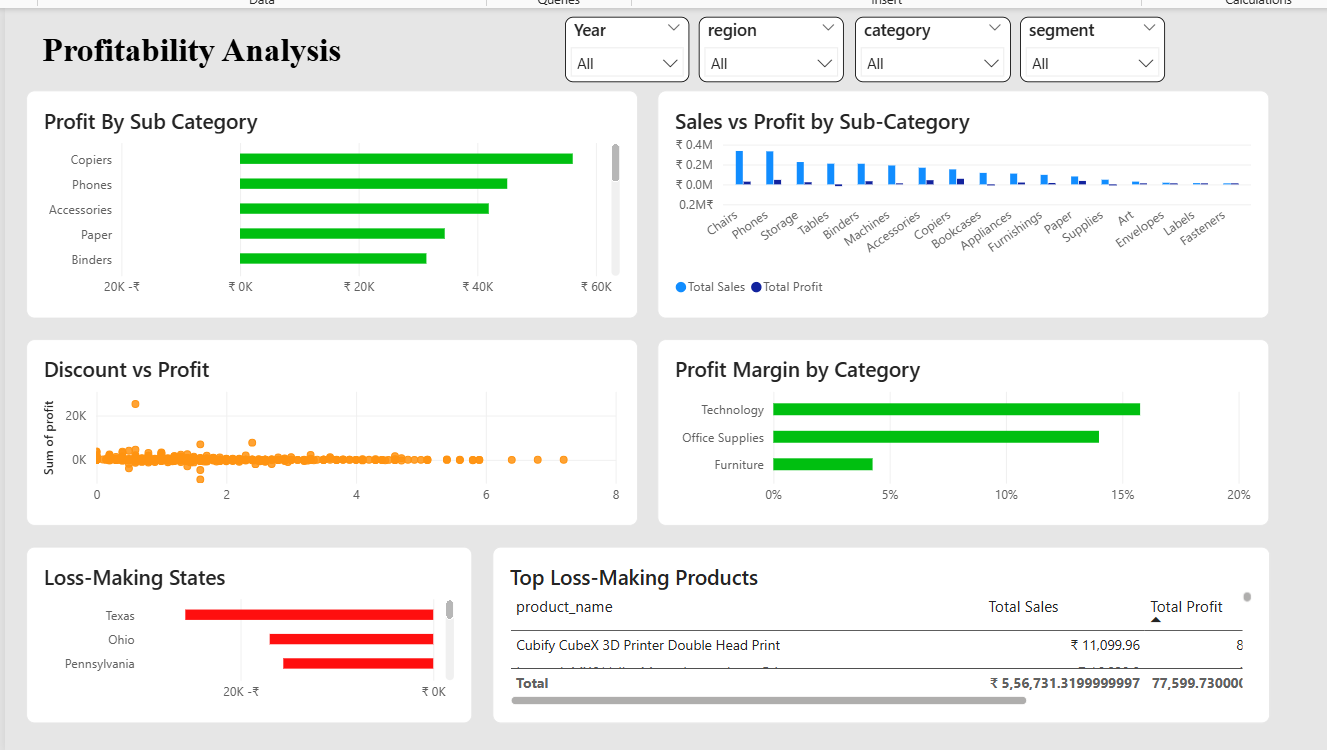

The dashboard page shown, as its layout file describes it:
{"tool":"powerbi","page":{"name":"Page 2","canvas":[1280,720],"ordinal":1},"visuals":[{"type":"textbox","box":[36.2,21.7,249.7,35],"z":0},{"type":"slicer","fields":{"Values":["DateTable.Year"]},"box":[540,8,120,63],"z":1000},{"type":"slicer","fields":{"Values":["superstore.region"]},"box":[670,8,140,63],"z":2000},{"type":"slicer","fields":{"Values":["superstore.category"]},"box":[820,8,150,63],"z":3000},{"type":"slicer","fields":{"Values":["superstore.segment"]},"box":[980,8,140,63],"z":4000},{"type":"clusteredBarChart","title":"Profit By Sub Category","fields":{"Category":["superstore.sub_category"],"Y":["DateTable.Total Profit"]},"box":[20,80,590,220],"z":5000},{"type":"clusteredColumnChart","title":"Sales vs Profit by Sub-Category","fields":{"Category":["superstore.sub_category"],"Y":["DateTable.Total Sales","DateTable.Total Profit"]},"box":[630,80,590,220],"z":6000},{"type":"scatterChart","title":"Discount vs Profit","fields":{"Category":["superstore.product_name"],"X":["Sum(superstore.discount)"],"Y":["Sum(superstore.profit)"]},"box":[20,320,590,180],"z":7000},{"type":"clusteredBarChart","title":"Profit Margin by Category","fields":{"Category":["superstore.category"],"Y":["DateTable.Avg Profit Margin"]},"box":[630,320,590,180],"z":8000},{"type":"clusteredBarChart","title":"Loss-Making States","fields":{"Category":["superstore.state"],"Y":["DateTable.Total Profit"]},"box":[20,520,430,170],"z":9000},{"type":"tableEx","title":"Top Loss-Making Products","fields":{"Values":["superstore.product_name","DateTable.Total Sales","DateTable.Total Profit","Sum(superstore.discount)","Sum(superstore.quantity)"]},"box":[470,520,750,170],"z":10000}]}

Visuals, with their boxes on the page's 1280x720 design canvas (x1, y1, x2, y2). These are canvas units, not pixel positions in the 1327x750 screenshot, which may show the page scaled, cropped or inside an application window:
textbox: 36:22:286:57
slicer - DateTable.Year: 540:8:660:71
slicer - superstore.region: 670:8:810:71
slicer - superstore.category: 820:8:970:71
slicer - superstore.segment: 980:8:1120:71
"Profit By Sub Category" clusteredBarChart: 20:80:610:300
"Sales vs Profit by Sub-Category" clusteredColumnChart: 630:80:1220:300
"Discount vs Profit" scatterChart: 20:320:610:500
"Profit Margin by Category" clusteredBarChart: 630:320:1220:500
"Loss-Making States" clusteredBarChart: 20:520:450:690
"Top Loss-Making Products" tableEx: 470:520:1220:690
